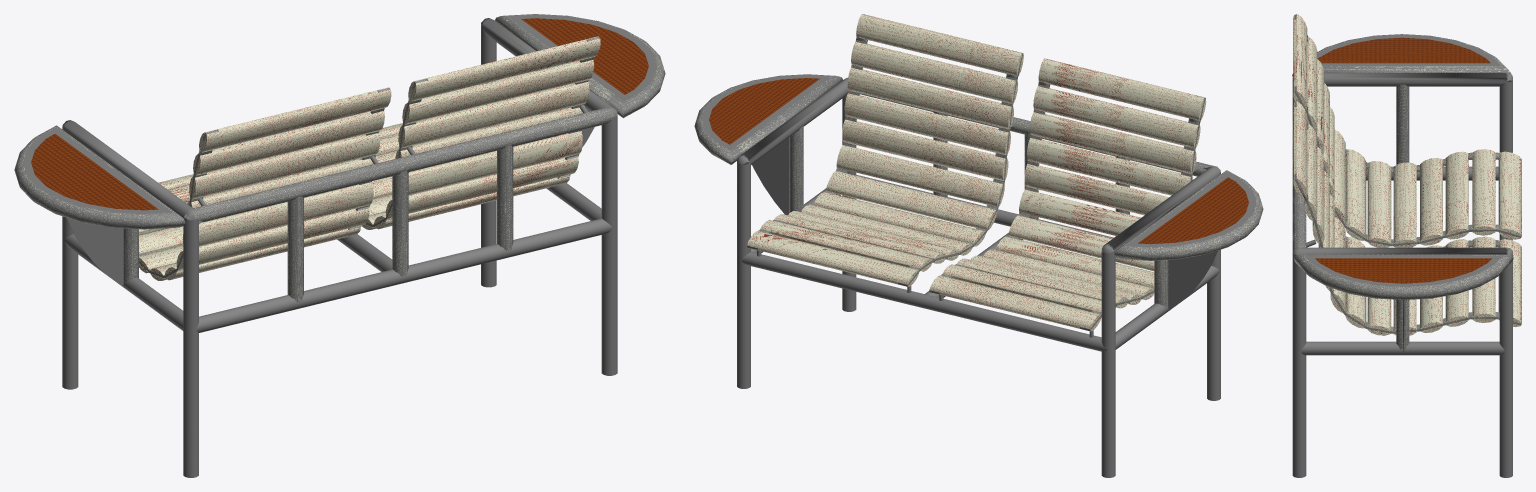
3 views of the same model, side by side, from view 1: azimuth 30°, elevation 25°; view 2: azimuth 150°, elevation 25°; view 3: azimuth 270°, elevation 25° (orthographic). The views are drawn at different scales.
Visible parts, largest first — view 1: mesh8_mesh8-geometry, mesh74_mesh74-geometry, mesh1_mesh1-geometry, mesh4_mesh4-geometry, mesh75_mesh75-geometry, mesh5_mesh5-geometry, mesh73_mesh73-geometry, mesh76_mesh76-geometry, mesh9_mesh9-geometry, mesh3_mesh3-geometry; view 2: mesh8_mesh8-geometry, mesh74_mesh74-geometry, mesh1_mesh1-geometry, mesh4_mesh4-geometry, mesh5_mesh5-geometry, mesh9_mesh9-geometry, mesh3_mesh3-geometry, mesh73_mesh73-geometry, mesh77_mesh77-geometry, mesh76_mesh76-geometry, mesh75_mesh75-geometry; view 3: mesh8_mesh8-geometry, mesh74_mesh74-geometry, mesh1_mesh1-geometry, mesh4_mesh4-geometry, mesh73_mesh73-geometry, mesh9_mesh9-geometry, mesh3_mesh3-geometry, mesh5_mesh5-geometry, mesh75_mesh75-geometry.
Part boxes in pixels (x1=…): mesh8_mesh8-geometry: x1=139, y1=36, x2=600, y2=280; mesh74_mesh74-geometry: x1=14, y1=14, x2=665, y2=229; mesh1_mesh1-geometry: x1=62, y1=28, x2=617, y2=477; mesh4_mesh4-geometry: x1=64, y1=183, x2=611, y2=332; mesh75_mesh75-geometry: x1=191, y1=107, x2=613, y2=223; mesh5_mesh5-geometry: x1=123, y1=110, x2=556, y2=301; mesh73_mesh73-geometry: x1=62, y1=120, x2=194, y2=220; mesh76_mesh76-geometry: x1=66, y1=217, x2=123, y2=285; mesh9_mesh9-geometry: x1=139, y1=36, x2=599, y2=278; mesh3_mesh3-geometry: x1=481, y1=18, x2=617, y2=117; mesh8_mesh8-geometry: x1=747, y1=14, x2=1206, y2=331; mesh74_mesh74-geometry: x1=694, y1=74, x2=1263, y2=260; mesh1_mesh1-geometry: x1=737, y1=95, x2=1220, y2=477; mesh4_mesh4-geometry: x1=742, y1=174, x2=1218, y2=351; mesh5_mesh5-geometry: x1=789, y1=111, x2=1168, y2=307; mesh9_mesh9-geometry: x1=747, y1=14, x2=1205, y2=330; mesh3_mesh3-geometry: x1=737, y1=77, x2=848, y2=164; mesh73_mesh73-geometry: x1=1101, y1=166, x2=1220, y2=253; mesh77_mesh77-geometry: x1=752, y1=137, x2=789, y2=215; mesh76_mesh76-geometry: x1=1168, y1=250, x2=1217, y2=309; mesh75_mesh75-geometry: x1=860, y1=93, x2=1215, y2=176; mesh8_mesh8-geometry: x1=1293, y1=14, x2=1521, y2=335; mesh74_mesh74-geometry: x1=1292, y1=34, x2=1513, y2=299; mesh1_mesh1-geometry: x1=1292, y1=81, x2=1512, y2=477; mesh4_mesh4-geometry: x1=1301, y1=166, x2=1512, y2=355; mesh73_mesh73-geometry: x1=1292, y1=72, x2=1512, y2=86; mesh9_mesh9-geometry: x1=1294, y1=14, x2=1521, y2=333; mesh3_mesh3-geometry: x1=1292, y1=247, x2=1512, y2=256; mesh5_mesh5-geometry: x1=1396, y1=84, x2=1409, y2=349; mesh75_mesh75-geometry: x1=1292, y1=76, x2=1306, y2=252.
Size of the model in its own units: 0.8394 by 0.4422 by 0.316.
